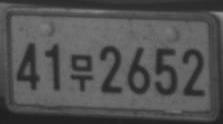1: (42, 42, 64, 92)
2: (98, 45, 123, 94), (182, 48, 206, 97)
4: (15, 41, 41, 91)
5: (154, 47, 178, 95)
6: (126, 47, 151, 95)
무: (68, 52, 95, 92)
